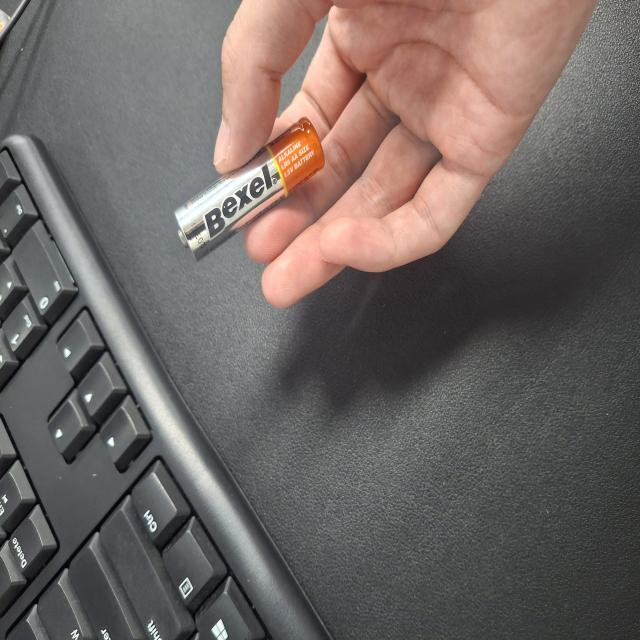AA: (285, 233, 391, 432)
